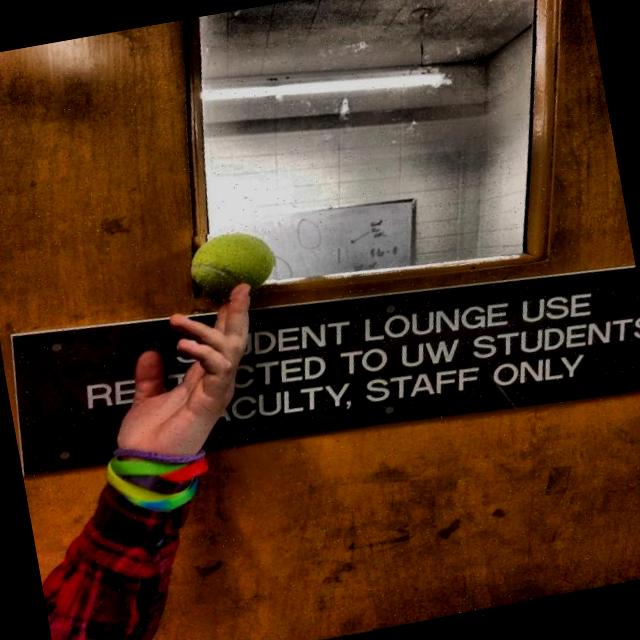Tennis Ball: (184, 224, 282, 308)
